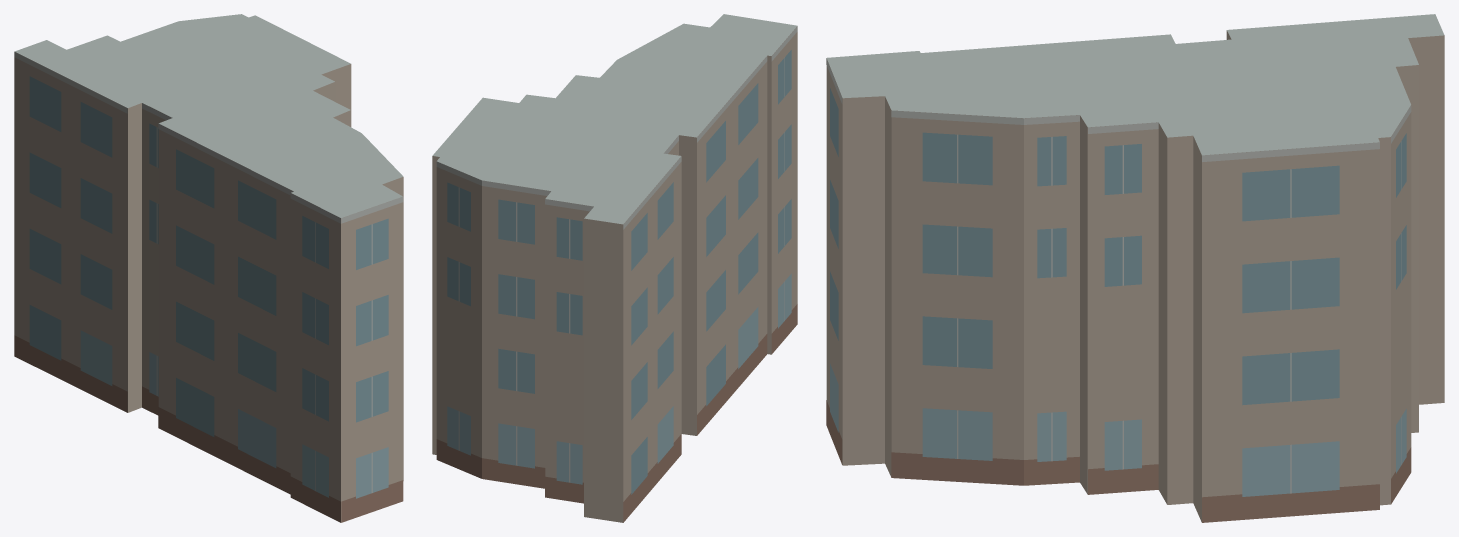
File: survey-upis-32999429.glb
3 views of the same model, side by side, from view 1: azimuth 30°, elevation 25°; view 2: azimuth 150°, elevation 25°; view 3: azimuth 270°, elevation 25° (orthographic). The views are drawn at different scales.
Parts seen in each view (by area): view 1: survey-upis-32999429.tmp; view 2: survey-upis-32999429.tmp; view 3: survey-upis-32999429.tmp.
Boxes of the visible parts, bbox=[...] form: survey-upis-32999429.tmp: bbox=[14, 14, 403, 522]; survey-upis-32999429.tmp: bbox=[432, 14, 797, 522]; survey-upis-32999429.tmp: bbox=[826, 14, 1444, 522].
Bounding box in the file's own units: 10.86 × 13.15 × 20.05.
